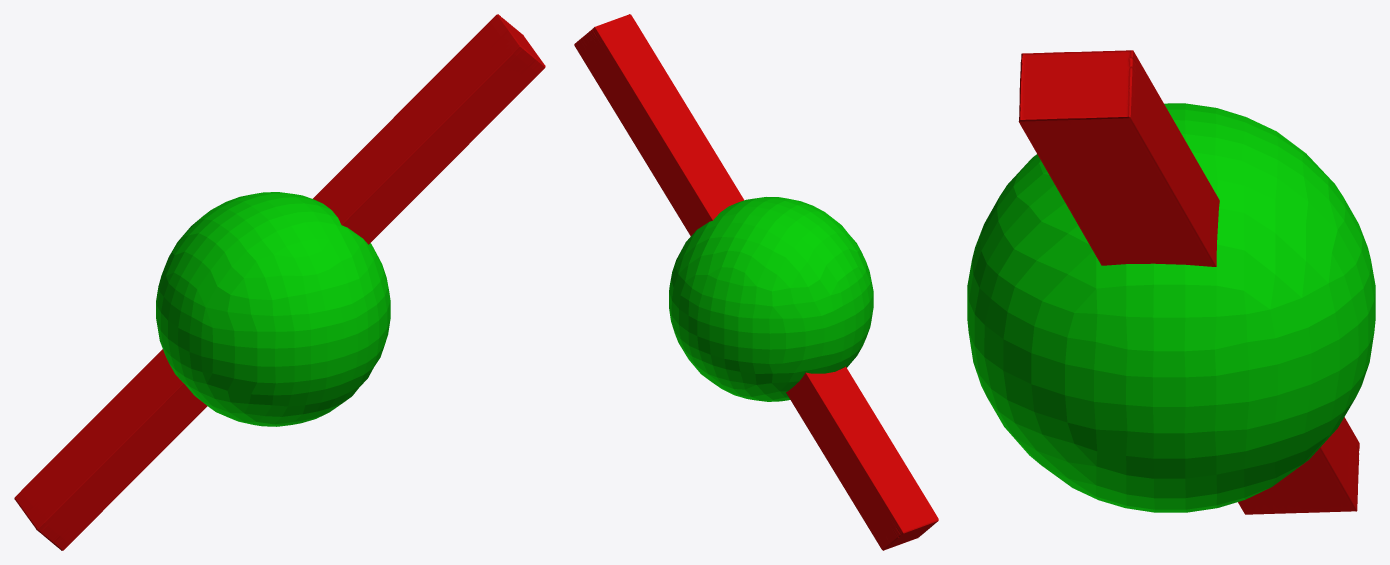
Rendered from dango1.obj.
3 renders of one model, left to right at view 1: azimuth 30°, elevation 25°; view 2: azimuth 150°, elevation 25°; view 3: azimuth 270°, elevation 25°, orthographic. The views are drawn at different scales.
Parts seen in each view (by area): view 1: SubTool-12-10345579.008, SubTool-9-13009072.008; view 2: SubTool-12-10345579.008, SubTool-9-13009072.008; view 3: SubTool-12-10345579.008, SubTool-9-13009072.008.
Part boxes in pixels (x1,y1,x2,y2): SubTool-12-10345579.008: (156,192,390,426); SubTool-9-13009072.008: (14,14,545,550); SubTool-12-10345579.008: (669,197,873,401); SubTool-9-13009072.008: (574,14,938,550); SubTool-12-10345579.008: (967,103,1375,512); SubTool-9-13009072.008: (1018,50,1359,514).
Size of the model in its own units: 0.714 by 0.6984 by 0.3199.
